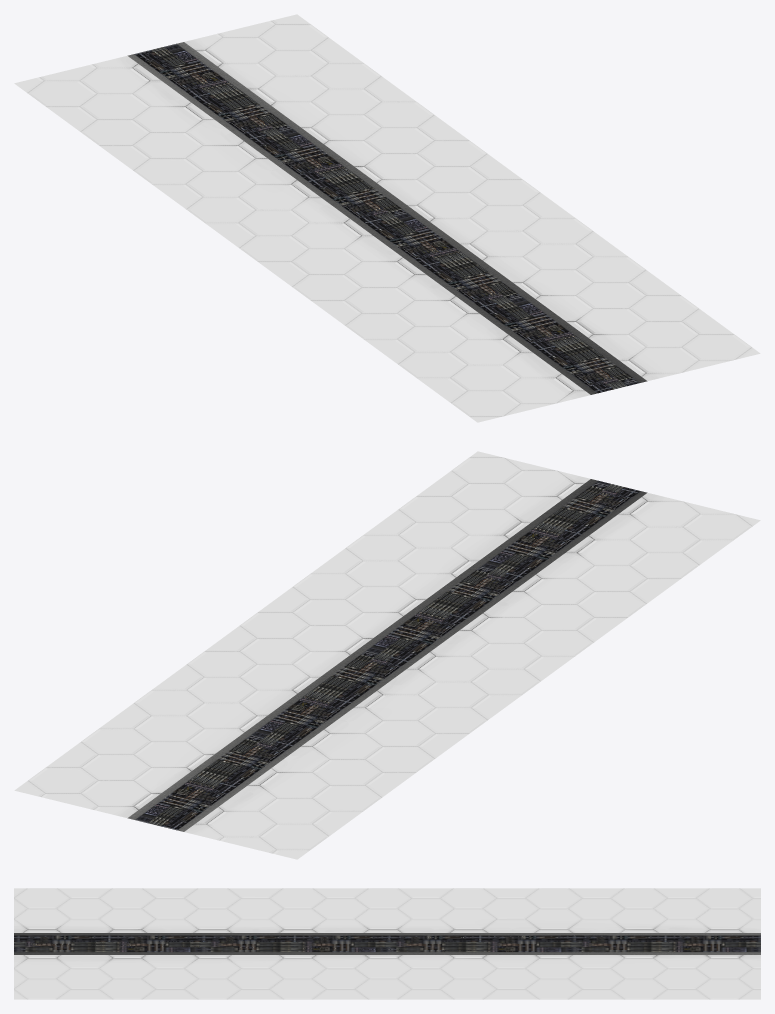
Rendered from AisleFloor.fbx.
3 views of the same model, one above another, from view 1: azimuth 30°, elevation 25°; view 2: azimuth 150°, elevation 25°; view 3: azimuth 270°, elevation 25° (orthographic). The views are drawn at different scales.
Parts seen in each view (by area): view 1: Aisle004; view 2: Aisle004; view 3: Aisle004.
Boxes of the visible parts, box(x1,y1,x2,y2) form: Aisle004: box(14, 14, 760, 422); Aisle004: box(14, 451, 760, 859); Aisle004: box(14, 888, 760, 999).
Size of the model in its own units: 152 by 7.03e-05 by 432.
Materials: 1 (1 with a texture image).
